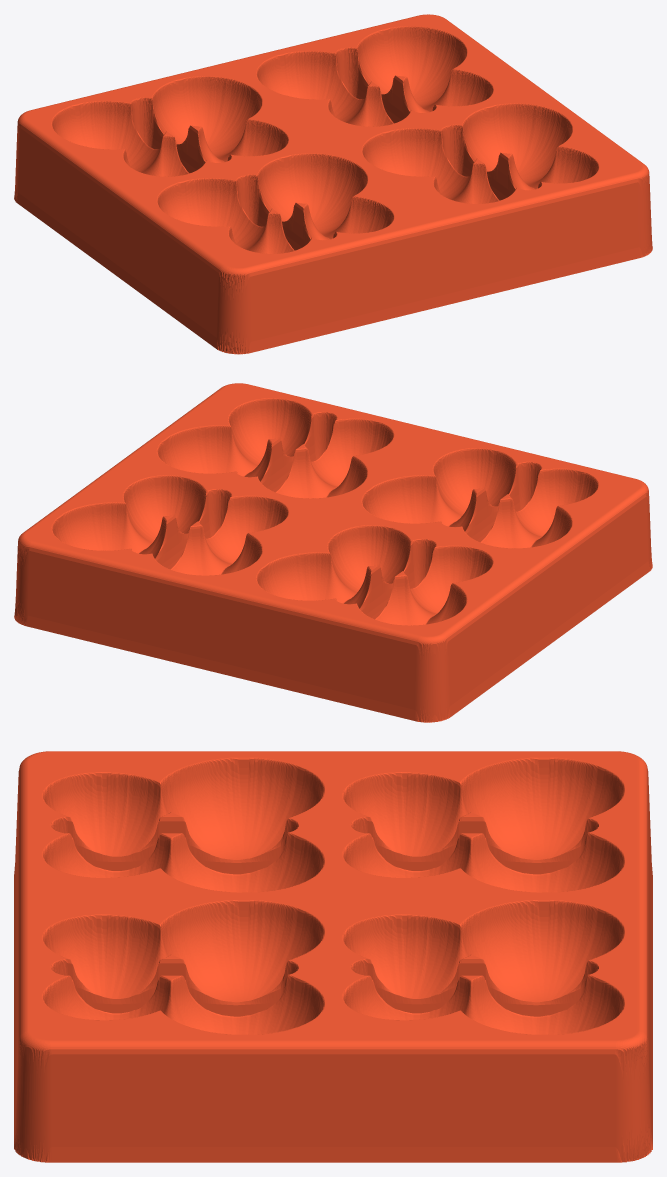
The model's file is mold.glb.
3 renders of one model, top to bottom at view 1: azimuth 30°, elevation 25°; view 2: azimuth 150°, elevation 25°; view 3: azimuth 270°, elevation 25°, orthographic. The views are drawn at different scales.
Visible parts, largest first — view 1: geometry_0; view 2: geometry_0; view 3: geometry_0.
Boxes of the visible parts, x1,y1,x2,y2 form: geometry_0: [14, 14, 652, 354]; geometry_0: [14, 383, 652, 722]; geometry_0: [14, 751, 652, 1162].
Bounding box in the file's own units: 0.1721 × 0.031 × 0.1545.
